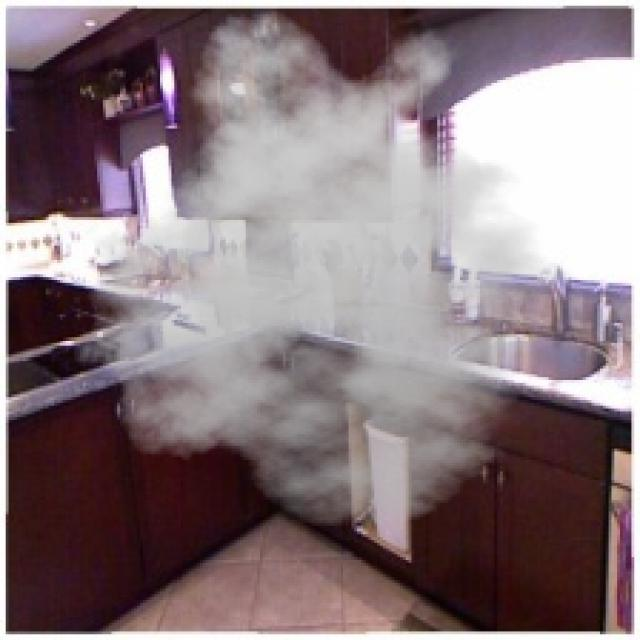smoke: (60, 9, 597, 528)
